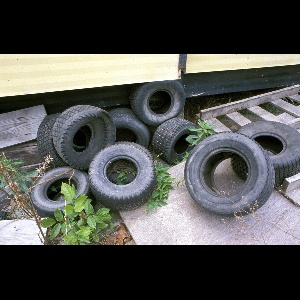tire: (185, 132, 274, 218), (230, 120, 300, 187), (87, 144, 155, 210), (53, 105, 115, 172), (31, 166, 92, 222), (95, 107, 152, 163), (129, 72, 185, 127), (153, 118, 205, 169)
